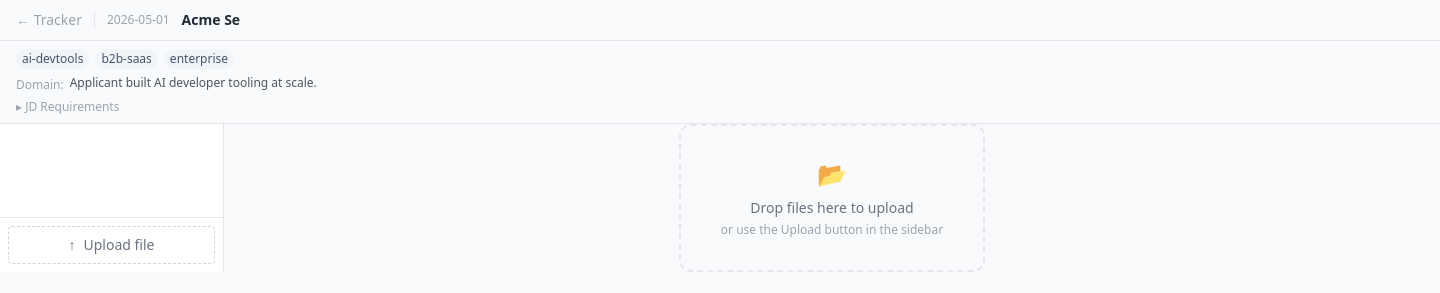
Scenario: ApplicationView — domain metadata panel › exits edit mode without saving on cancel click
Click the button "Applicant built AI developer tooling at scale." at (193, 83), box x1=70 y1=75 x2=317 y2=91
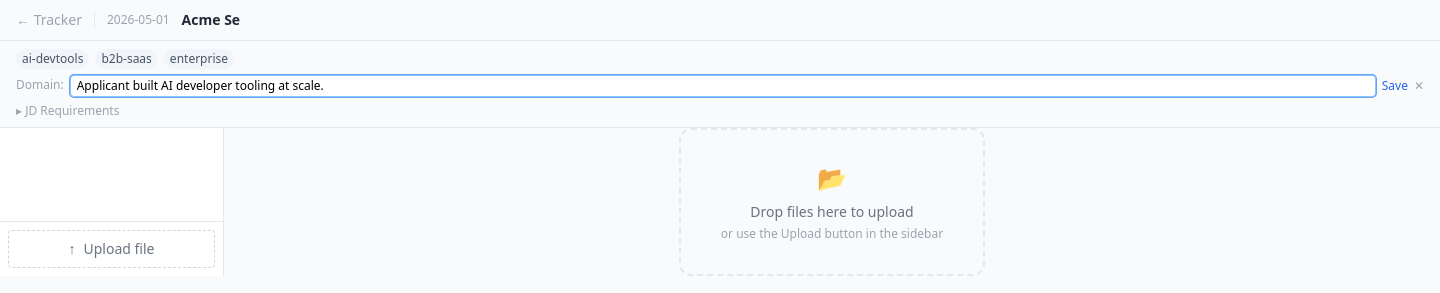
Check: the field is shown, box x1=70 y1=75 x2=1376 y2=97
Click the button "✕" at (1419, 86), box x1=1414 y1=78 x2=1424 y2=94
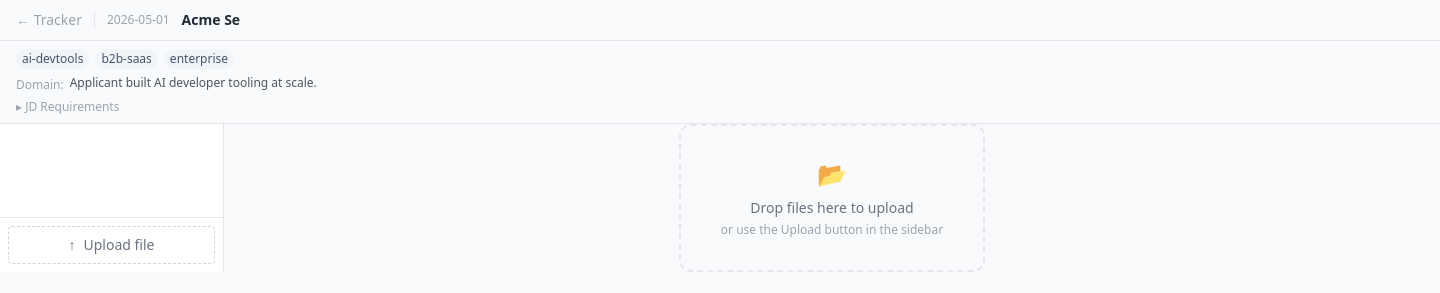
Check: the field is gone
